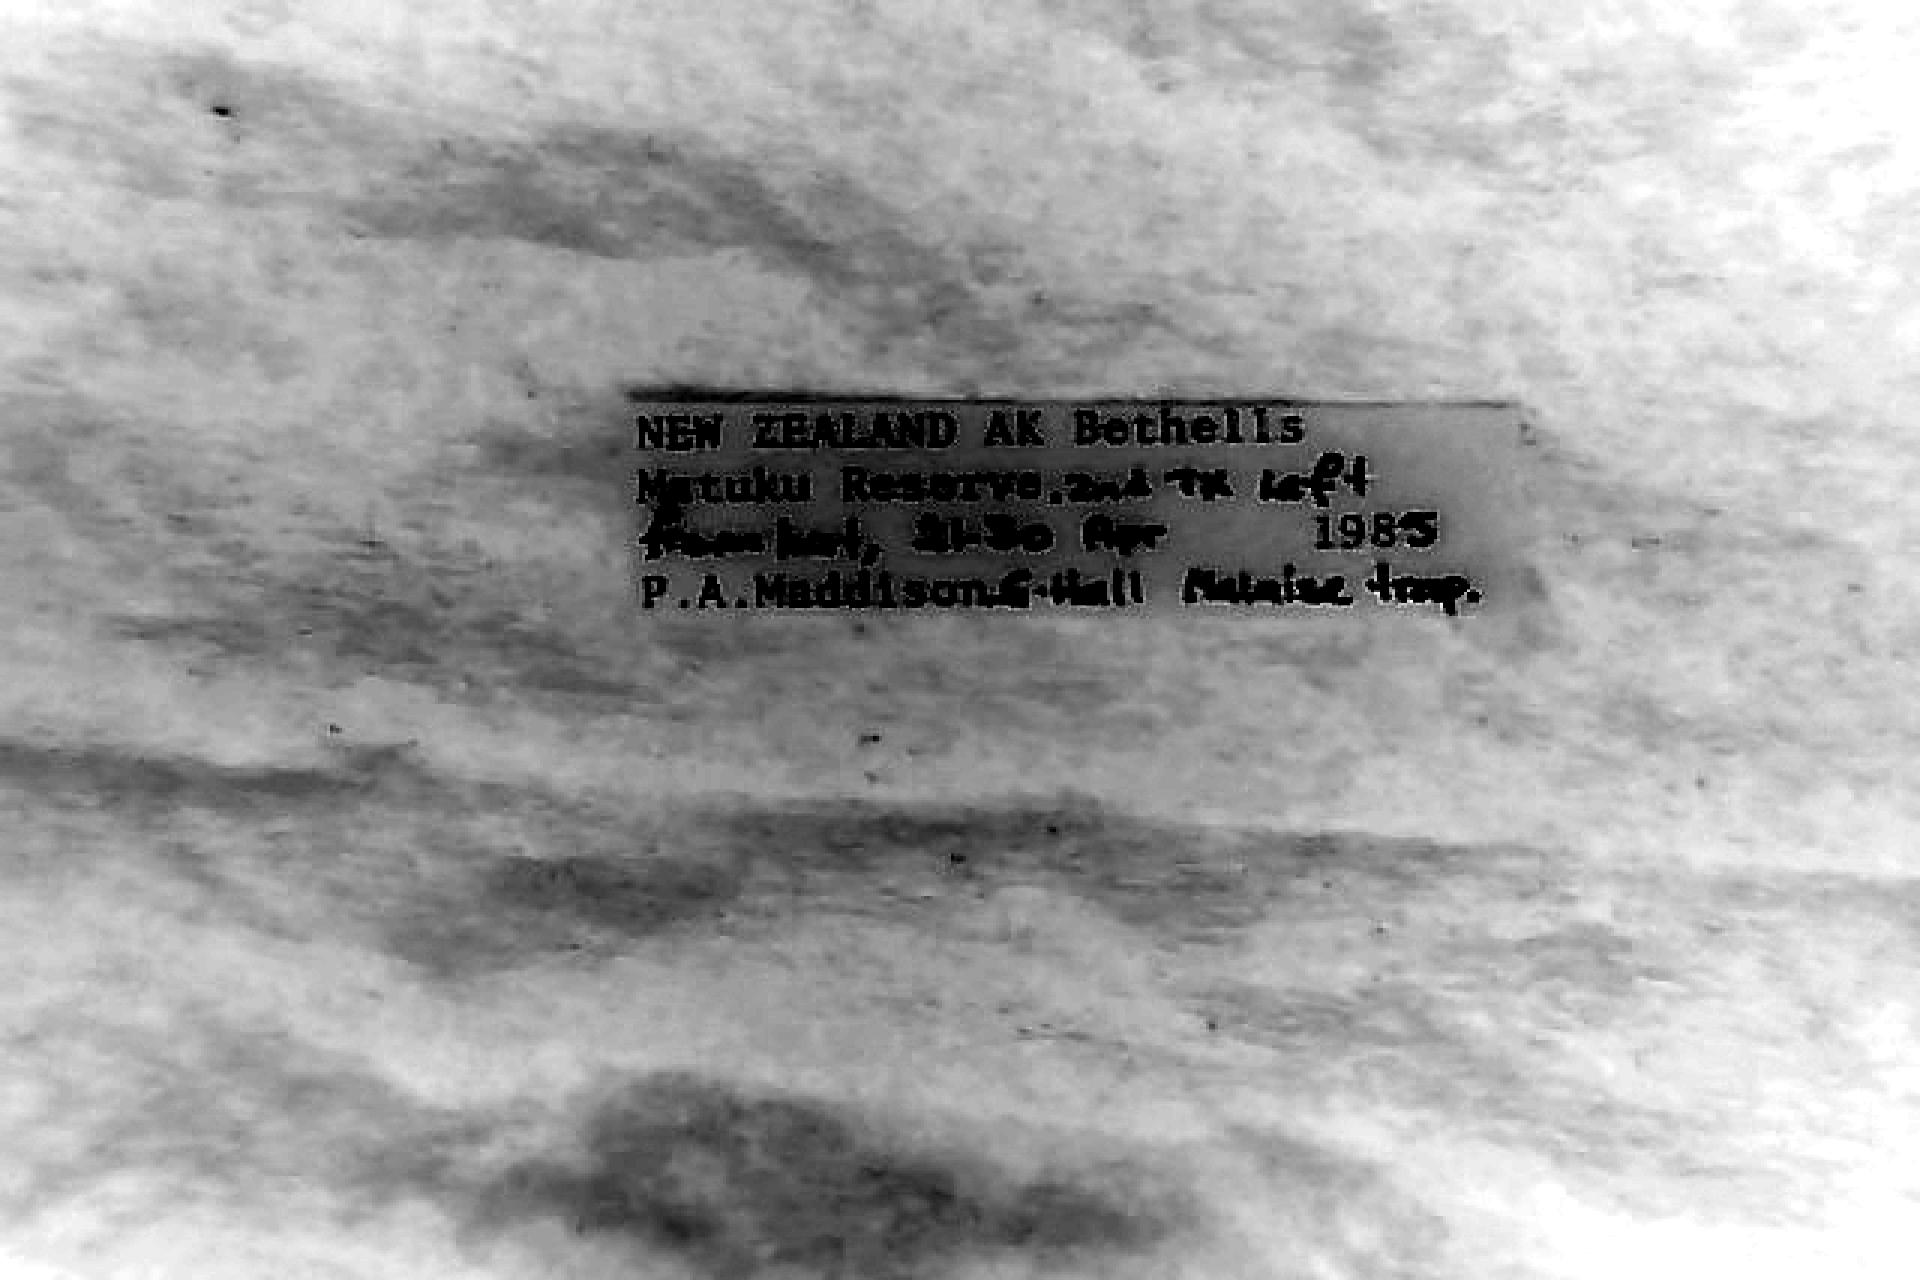mixed_label: (630, 397, 1519, 614)
